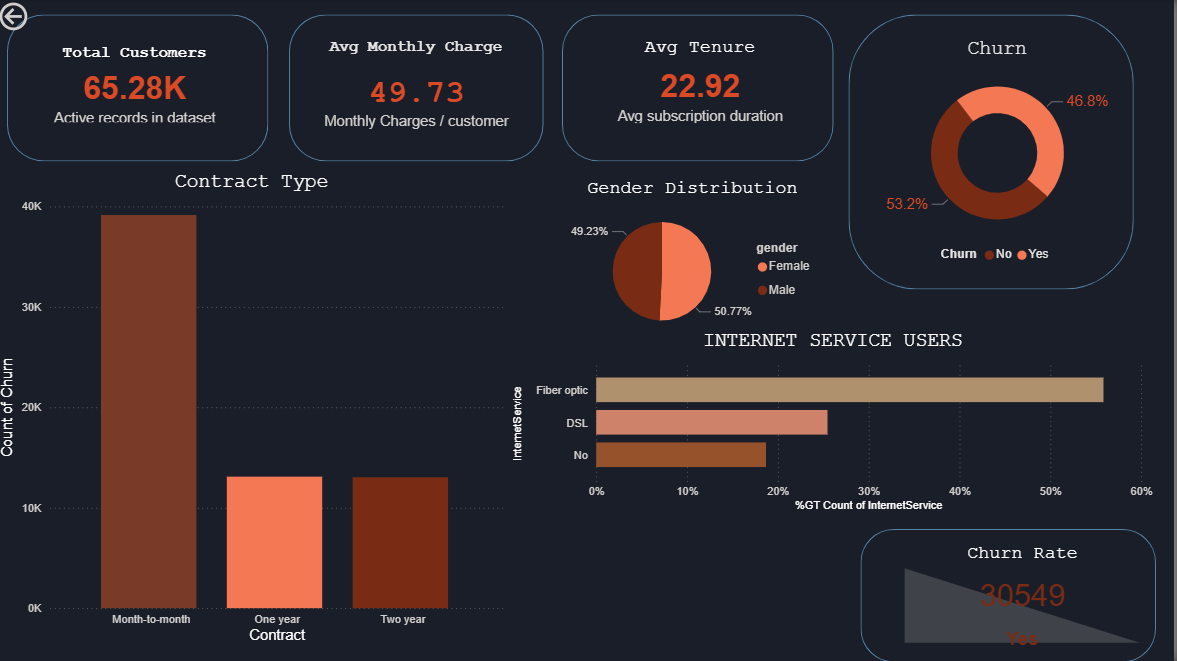

This screenshot's page, from the dashboard's own definition file:
{"tool":"powerbi","page":{"name":"Page 1","canvas":[1280,720],"ordinal":0},"visuals":[{"type":"shape","box":[13,18.5,283.3,159.3],"z":0},{"type":"shape","box":[318.5,18.5,275.9,159.3],"z":1000},{"type":"shape","box":[614.8,18.5,294.4,159.3],"z":2000},{"type":"shape","box":[925.9,18.5,309.3,298.1],"z":3000},{"type":"shape","box":[927.8,331.5,320.4,229.6],"z":4000},{"type":"shape","box":[938.9,575.9,320.4,144.4],"z":5000},{"type":"shape","box":[35.2,200,874.1,483.3],"z":6000},{"type":"card","title":"Total Customers","fields":{"Values":["CountNonNull(telco_customer_data_cleaned (3).Customer_ID)"]},"box":[27.8,48.1,255.6,100],"z":7000},{"type":"card","title":"Avg Monthly Charge","fields":{"Values":["Avg(telco_customer_data_cleaned (3).AvgMonthlyCharge)"]},"box":[340.7,42.6,233.3,111.1],"z":8000},{"type":"card","title":"Avg Tenure","fields":{"Values":["Avg(telco_customer_data_cleaned (3).tenure)"]},"box":[650,42.6,227.8,98.1],"z":9000},{"type":"donutChart","title":"Churn","fields":{"Category":["telco_customer_data_cleaned (3).Churn"],"Y":["CountNonNull(telco_customer_data_cleaned (3).Customer_ID)"]},"box":[925.9,42.6,322.2,255.6],"z":10000},{"type":"clusteredColumnChart","title":"Contract Type","fields":{"Category":["telco_customer_data_cleaned (3).Contract"],"Y":["CountNonNull(telco_customer_data_cleaned (3).Churn)"]},"box":[83.3,246.3,746.3,418.5],"z":11000},{"type":"pieChart","title":"Gender Distribution","fields":{"Category":["telco_customer_data_cleaned (3).gender"],"Y":["CountNonNull(telco_customer_data_cleaned (3).Customer_ID)"]},"box":[946.3,366.7,283.3,177.8],"z":12000},{"type":"actionButton","box":[0,0,100,40],"z":13000},{"type":"kpi","title":"Churn Rate","fields":{"Indicator":["CountNonNull(telco_customer.Customer_ID)"],"TrendLine":["telco_customer.Churn"]},"box":[968.5,590.7,266.7,113],"z":14000}]}

Visuals, with their boxes on the page's 1280x720 design canvas (x1, y1, x2, y2). These are canvas units, not pixel positions in the 1177x661 screenshot, which may show the page scaled, cropped or inside an application window:
shape: 13, 18, 296, 178
shape: 318, 18, 594, 178
shape: 615, 18, 909, 178
shape: 926, 18, 1235, 317
shape: 928, 332, 1248, 561
shape: 939, 576, 1259, 720
shape: 35, 200, 909, 683
"Total Customers" card: 28, 48, 283, 148
"Avg Monthly Charge" card: 341, 43, 574, 154
"Avg Tenure" card: 650, 43, 878, 141
"Churn" donutChart: 926, 43, 1248, 298
"Contract Type" clusteredColumnChart: 83, 246, 830, 665
"Gender Distribution" pieChart: 946, 367, 1230, 544
actionButton: 0, 0, 100, 40
"Churn Rate" kpi: 968, 591, 1235, 704
